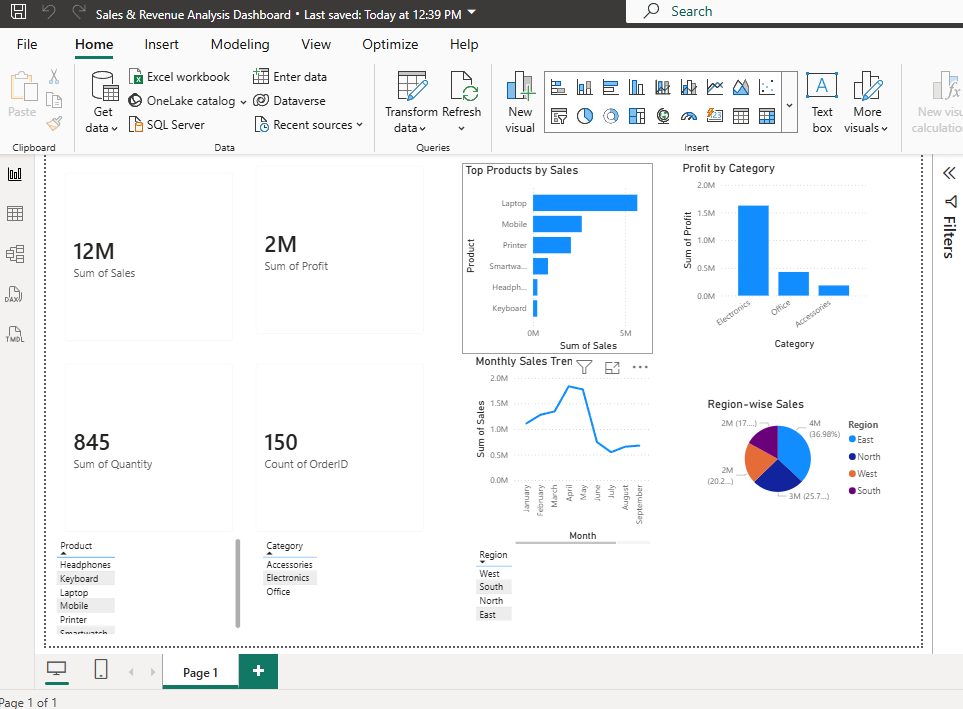

The dashboard page shown, as its layout file describes it:
{"tool":"powerbi","page":{"name":"Page 1","canvas":[1280,720],"ordinal":0},"visuals":[{"type":"cardVisual","title":"Top Products by Sales","fields":{"Data":["Sum(SalesData.Sales)"]},"box":[10,10,280,280],"z":0},{"type":"cardVisual","title":"Profit by Category","fields":{"Data":["Sum(SalesData.Profit)"]},"box":[290,0,280,280],"z":1},{"type":"cardVisual","fields":{"Data":["Sum(SalesData.Quantity)"]},"box":[10,290,280,280],"z":2},{"type":"cardVisual","fields":{"Data":["CountNonNull(SalesData.OrderID)"]},"box":[290,290,280,280],"z":3},{"type":"lineChart","title":"Monthly Sales Trend","fields":{"Category":["SalesData.OrderDate.Variation.Date Hierarchy.Year","SalesData.OrderDate.Variation.Date Hierarchy.Quarter","SalesData.OrderDate.Variation.Date Hierarchy.Month","SalesData.OrderDate.Variation.Date Hierarchy.Day"],"Y":["Sum(SalesData.Sales)"]},"box":[623.4,292.7,266.3,286.8],"z":4},{"type":"clusteredBarChart","title":"Top Products by Sales","fields":{"Category":["SalesData.Product"],"Y":["Sum(SalesData.Sales)"]},"box":[608.6,12.9,280,280],"z":5},{"type":"pieChart","title":"Region-wise Sales","fields":{"Category":["SalesData.Region"],"Y":["Sum(SalesData.Sales)"]},"box":[962.9,355.7,280,160],"z":6},{"type":"clusteredColumnChart","title":"Profit by Category","fields":{"Category":["SalesData.Category"],"Y":["Sum(SalesData.Profit)"]},"box":[925.7,10,280,280],"z":7},{"type":"tableEx","fields":{"Values":["SalesData.Region"]},"box":[623.4,570.7,266.3,149.3],"z":8},{"type":"tableEx","fields":{"Values":["SalesData.Category"]},"box":[311.4,557.1,280,150],"z":9},{"type":"tableEx","fields":{"Values":["SalesData.Product"]},"box":[10,557.1,280,150],"z":10}]}

Visuals, with their boxes on the page's 1280x720 design canvas (x1, y1, x2, y2). These are canvas units, not pixel positions in the 963x709 screenshot, which may show the page scaled, cropped or inside an application window:
"Top Products by Sales" cardVisual: 10,10,290,290
"Profit by Category" cardVisual: 290,0,570,280
cardVisual - Sum(SalesData.Quantity): 10,290,290,570
cardVisual - CountNonNull(SalesData.OrderID): 290,290,570,570
"Monthly Sales Trend" lineChart: 623,293,890,580
"Top Products by Sales" clusteredBarChart: 609,13,889,293
"Region-wise Sales" pieChart: 963,356,1243,516
"Profit by Category" clusteredColumnChart: 926,10,1206,290
tableEx - SalesData.Region: 623,571,890,720
tableEx - SalesData.Category: 311,557,591,707
tableEx - SalesData.Product: 10,557,290,707
